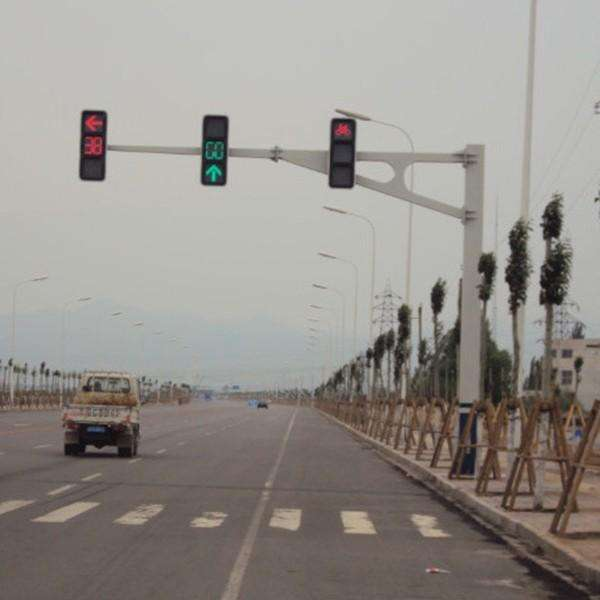green: (200, 110, 230, 192)
red: (78, 105, 108, 187), (326, 116, 358, 188)
